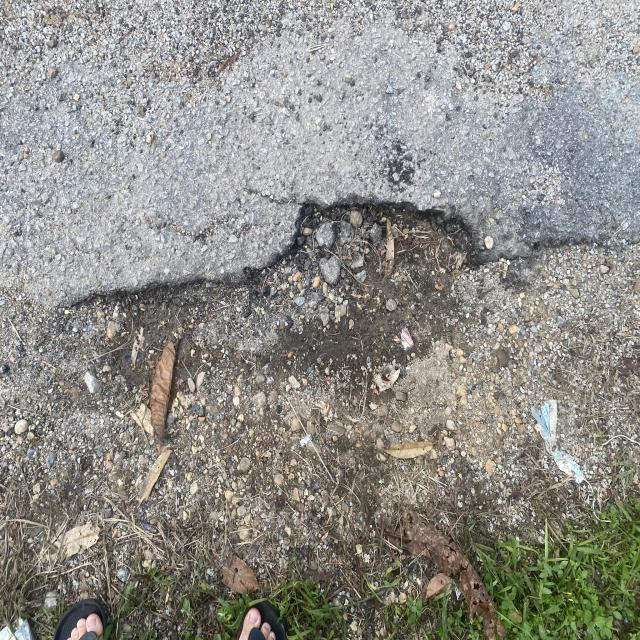Pothole: (45, 167, 564, 400)
